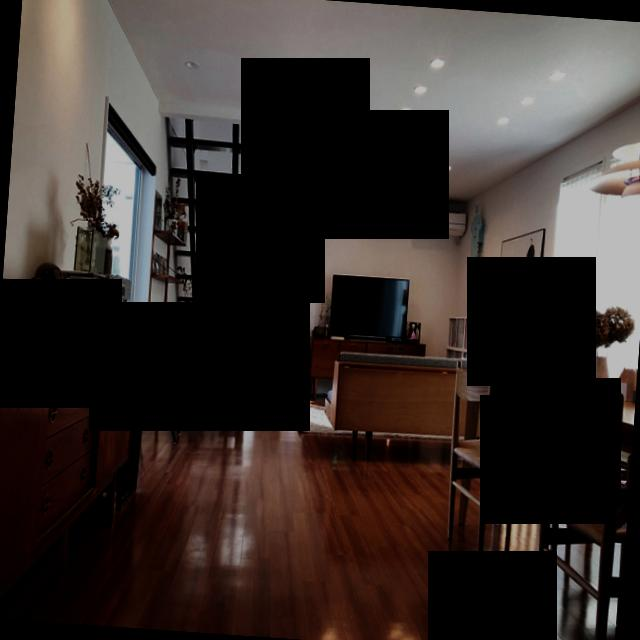vintage chair: (439, 358, 568, 580), (530, 374, 636, 640)
vintage shelf: (0, 313, 143, 627), (307, 326, 425, 404)
vintage sofa: (320, 339, 456, 456)
